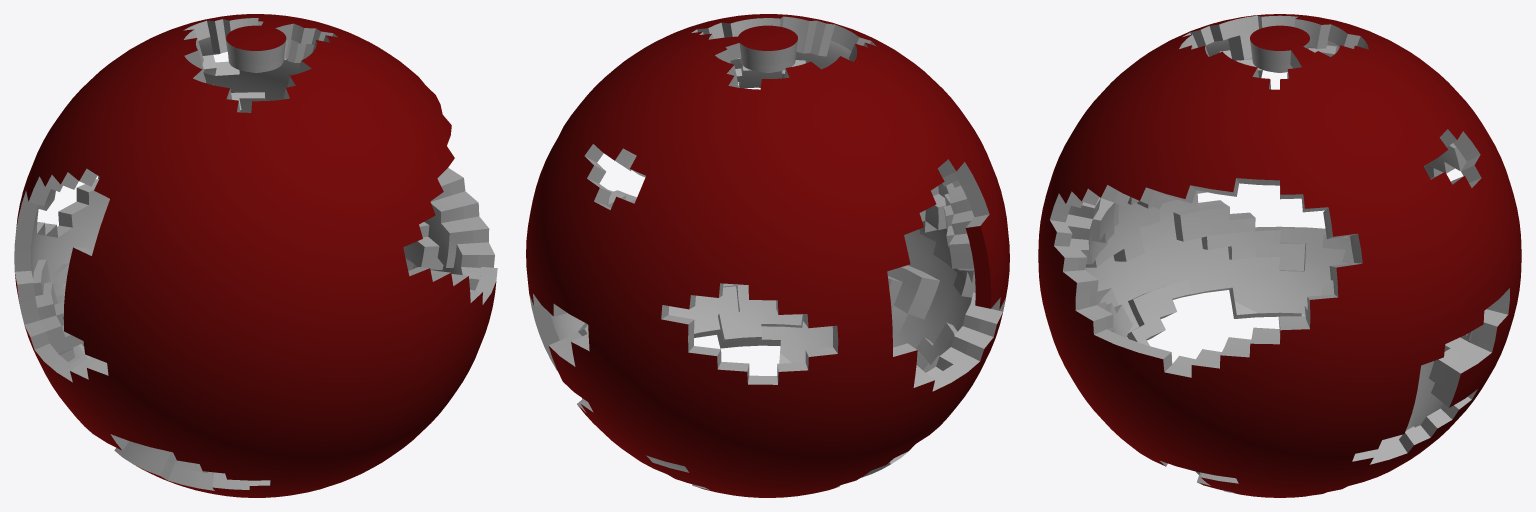
File: TestSphere5.fbx
3 views of the same model, side by side, from view 1: azimuth 30°, elevation 25°; view 2: azimuth 150°, elevation 25°; view 3: azimuth 270°, elevation 25° (orthographic).
Parts seen in each view (by area): view 1: sphere4; view 2: sphere4; view 3: sphere4.
Boxes of the visible parts, x1,y1,x2,y2 form: sphere4: [14, 14, 497, 497]; sphere4: [526, 14, 1009, 497]; sphere4: [1038, 14, 1521, 497].
Size of the model in its own units: 5776 by 5800 by 5789.
